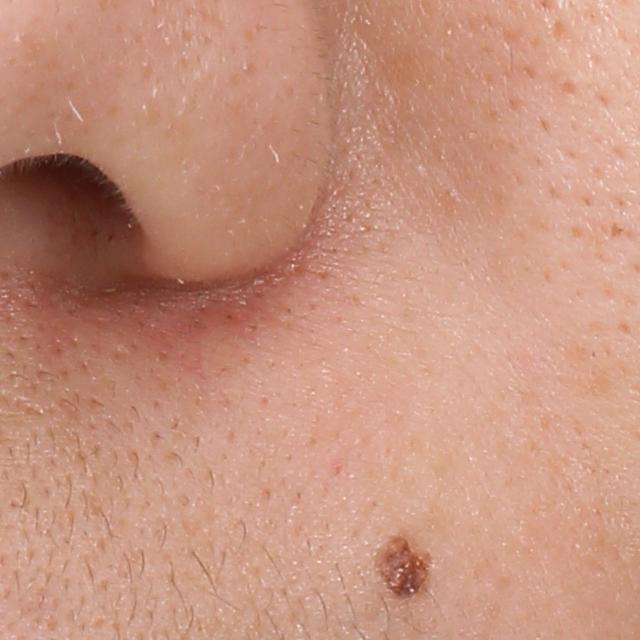nevus: (371, 529, 436, 606)
